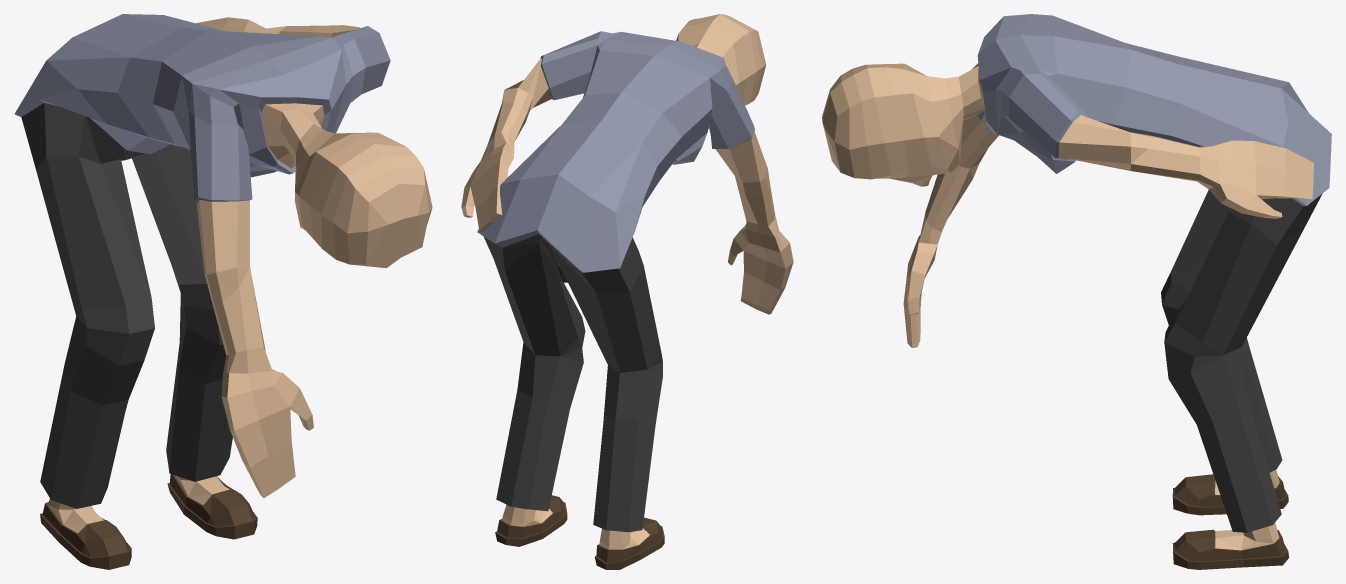
File: Female_PickingUp.glb
3 views of the same model, side by side, from view 1: azimuth 30°, elevation 25°; view 2: azimuth 150°, elevation 25°; view 3: azimuth 270°, elevation 25° (orthographic). The views are drawn at different scales.
Visible parts, largest first — view 1: Female_PickingUp; view 2: Female_PickingUp; view 3: Female_PickingUp.
Boxes of the visible parts, box(x1,y1,x2,y2) form: Female_PickingUp: box(14, 14, 432, 569); Female_PickingUp: box(461, 14, 793, 569); Female_PickingUp: box(822, 14, 1331, 569).
Bounding box in the file's own units: 1.08 × 2.26 × 2.09.
